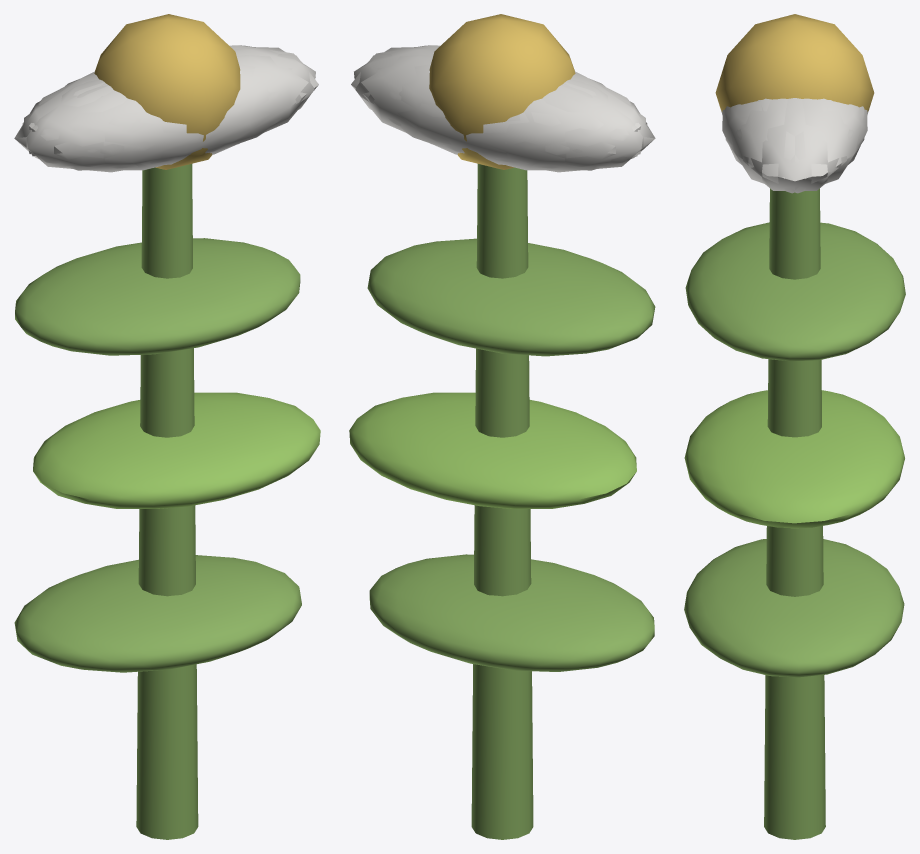
File: thalictrum-dioicum.glb
The picture shows the model from 3 angles, left to right: view 1: azimuth 30°, elevation 25°; view 2: azimuth 150°, elevation 25°; view 3: azimuth 270°, elevation 25°; orthographic projection.
Visible parts, largest first — view 1: stem, leaf2, leaf1, leaf0, center, petal6, petal2, petal1, petal5, petal7, petal0; view 2: stem, leaf2, leaf1, leaf0, center, petal3, petal7, petal8, petal4, petal2, petal0; view 3: stem, leaf1, leaf2, leaf0, center, petal0, petal4, petal5, petal8, petal1.
Boxes of the visible parts, x1=… form: stem: x1=136, y1=164, x2=198, y2=839; leaf2: x1=15, y1=238, x2=300, y2=355; leaf1: x1=33, y1=392, x2=320, y2=508; leaf0: x1=14, y1=555, x2=301, y2=672; center: x1=94, y1=14, x2=240, y2=169; petal6: x1=31, y1=85, x2=226, y2=170; petal2: x1=24, y1=79, x2=173, y2=172; petal1: x1=100, y1=64, x2=301, y2=168; petal5: x1=163, y1=54, x2=318, y2=160; petal7: x1=14, y1=74, x2=113, y2=163; petal0: x1=234, y1=47, x2=315, y2=144; stem: x1=471, y1=164, x2=533, y2=839; leaf2: x1=367, y1=238, x2=655, y2=356; leaf1: x1=349, y1=392, x2=636, y2=508; leaf0: x1=369, y1=554, x2=654, y2=671; center: x1=429, y1=14, x2=575, y2=169; petal3: x1=443, y1=85, x2=637, y2=170; petal7: x1=496, y1=79, x2=645, y2=172; petal8: x1=368, y1=64, x2=569, y2=168; petal4: x1=351, y1=54, x2=506, y2=160; petal2: x1=556, y1=74, x2=655, y2=163; petal0: x1=354, y1=47, x2=435, y2=144; stem: x1=764, y1=188, x2=825, y2=839; leaf1: x1=684, y1=390, x2=904, y2=528; leaf2: x1=685, y1=222, x2=905, y2=361; leaf0: x1=684, y1=539, x2=904, y2=677; center: x1=715, y1=14, x2=874, y2=111; petal0: x1=736, y1=98, x2=853, y2=190; petal4: x1=783, y1=98, x2=864, y2=193; petal5: x1=725, y1=98, x2=806, y2=193; petal8: x1=818, y1=98, x2=867, y2=165; petal1: x1=722, y1=98, x2=771, y2=165.
Size of the model in its own units: 0.1541 by 0.4031 by 0.1005.
